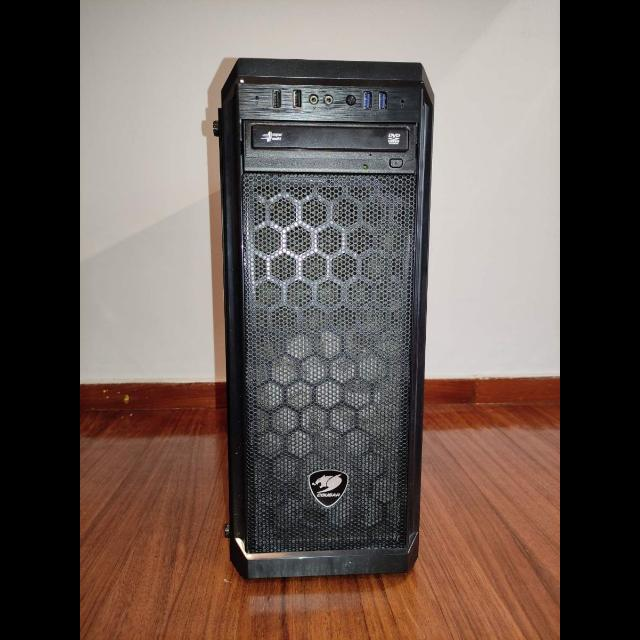Desktop-PC: (218, 55, 432, 579)
